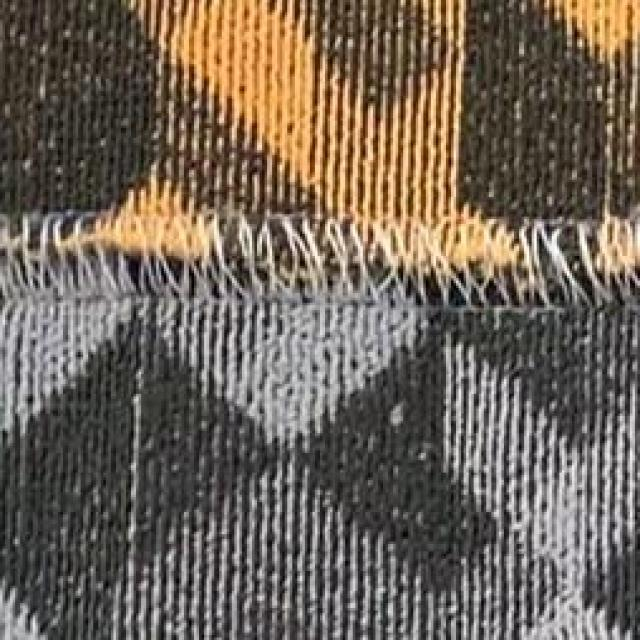gray stitch: (2, 200, 640, 306)
